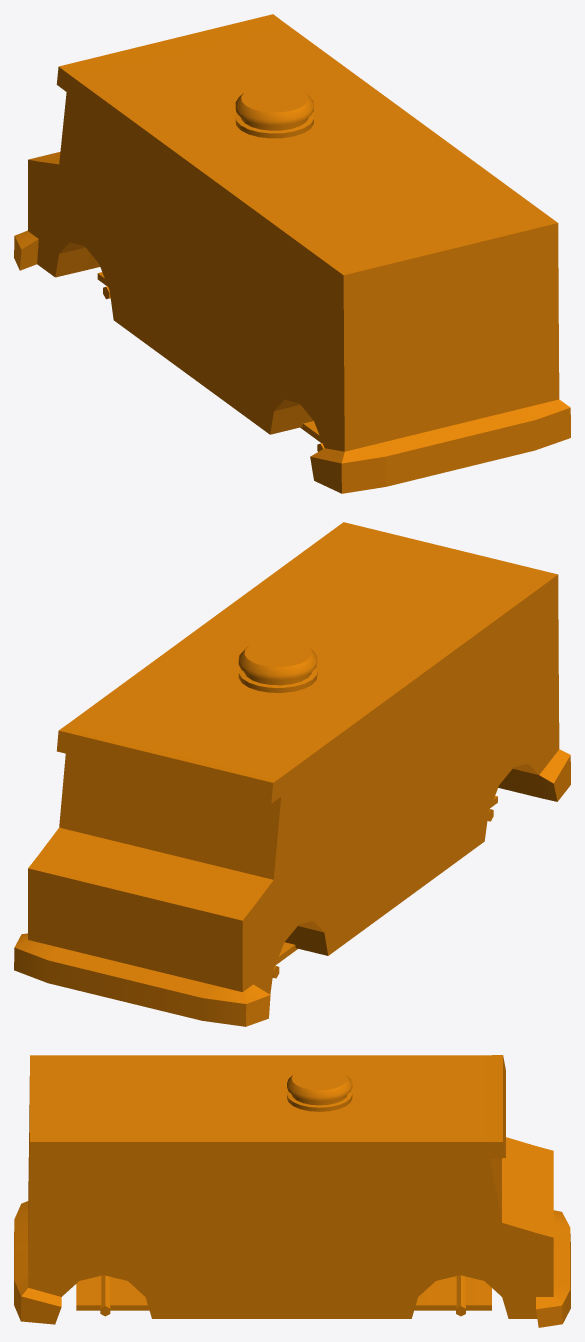
File: P1_Car_Truck_02.fbx
3 views of the same model, one above another, from view 1: azimuth 30°, elevation 25°; view 2: azimuth 150°, elevation 25°; view 3: azimuth 270°, elevation 25° (orthographic). The views are drawn at different scales.
Parts seen in each view (by area): view 1: Car_Truck_02; view 2: Car_Truck_02; view 3: Car_Truck_02.
Part boxes in pixels (x1,y1,x2,y2): Car_Truck_02: [14, 14, 570, 493]; Car_Truck_02: [14, 522, 570, 1026]; Car_Truck_02: [14, 1055, 570, 1327].
Size of the model in its own units: 24.31 by 22.66 by 56.76.
